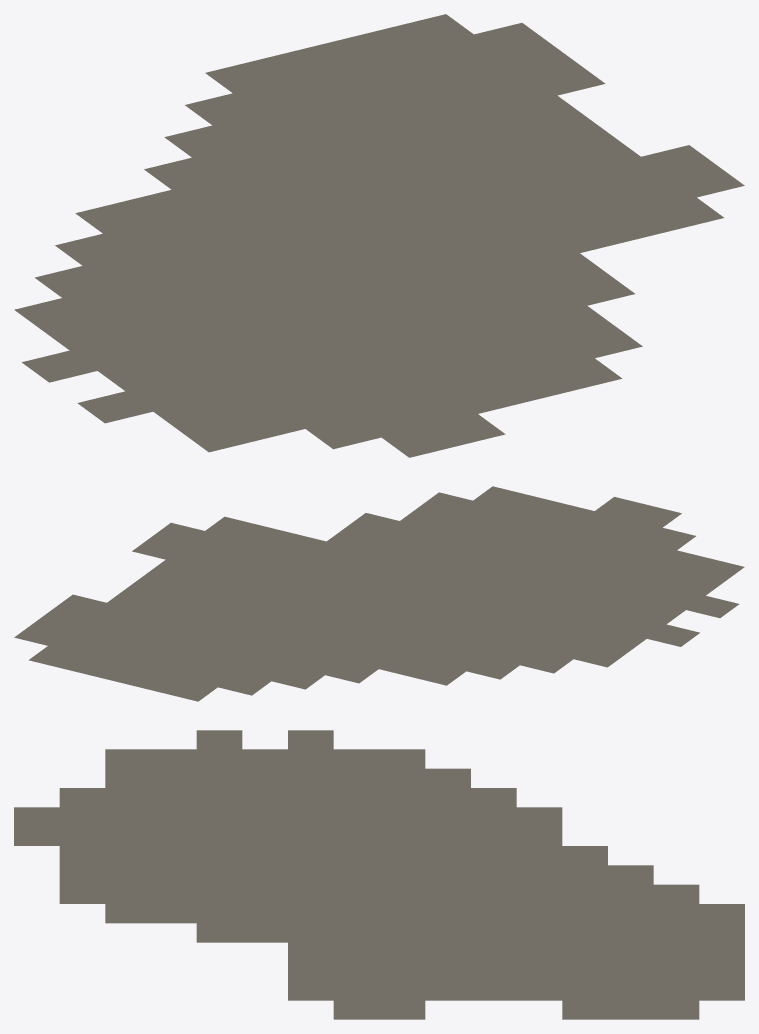
Rendered from Isl-flat1-RocksArea.fbx.
The picture shows the model from 3 angles, top to bottom: view 1: azimuth 30°, elevation 25°; view 2: azimuth 150°, elevation 25°; view 3: azimuth 270°, elevation 25°; orthographic projection. The views are drawn at different scales.
Visible parts, largest first — view 1: Isl-flat1-RocksArea; view 2: Isl-flat1-RocksArea; view 3: Isl-flat1-RocksArea.
Boxes of the visible parts, x1,y1,x2,y2 form: Isl-flat1-RocksArea: [14, 14, 744, 457]; Isl-flat1-RocksArea: [14, 486, 744, 701]; Isl-flat1-RocksArea: [14, 730, 744, 1019].
Bounding box in the file's own units: 15 × 0 × 16.
